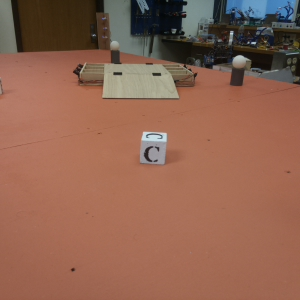blockC: (140, 132, 168, 164)
corner: (95, 14, 109, 48)
obstacle: (229, 55, 246, 85), (109, 41, 121, 63)
side: (71, 61, 104, 88), (168, 63, 203, 86)
slope: (104, 72, 179, 99)
